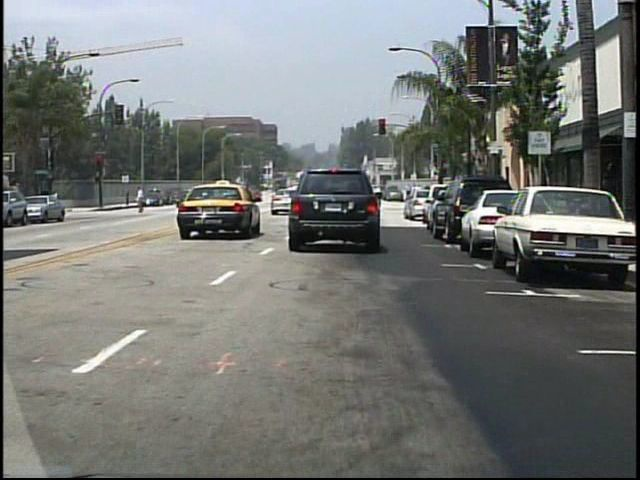person: (373, 183, 390, 215), (134, 187, 151, 214)
